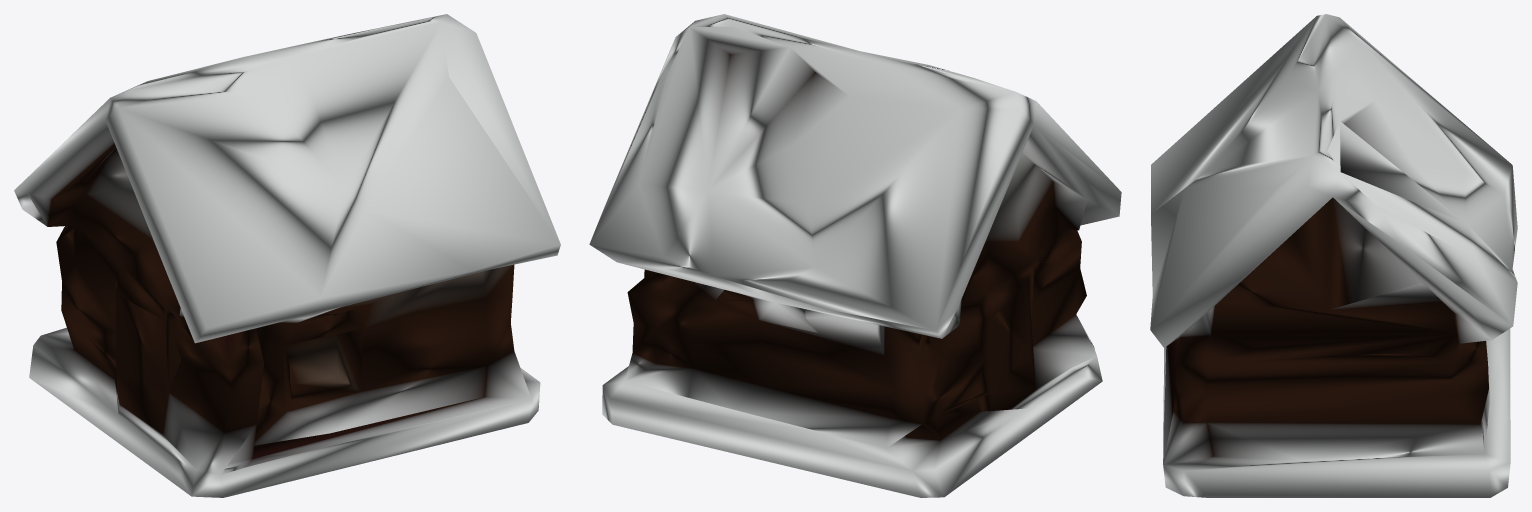
File: gen3d-snowy-log-cabin-lod1.glb
3 renders of one model, left to right at view 1: azimuth 30°, elevation 25°; view 2: azimuth 150°, elevation 25°; view 3: azimuth 270°, elevation 25°, orthographic. The views are drawn at different scales.
Parts seen in each view (by area): view 1: part_0; view 2: part_0; view 3: part_0.
Boxes of the visible parts, x1,y1,x2,y2 form: part_0: [14, 14, 560, 497]; part_0: [589, 14, 1121, 497]; part_0: [1150, 14, 1517, 497].
Bounding box in the file's own units: 1.08 × 0.9939 × 0.9925.
